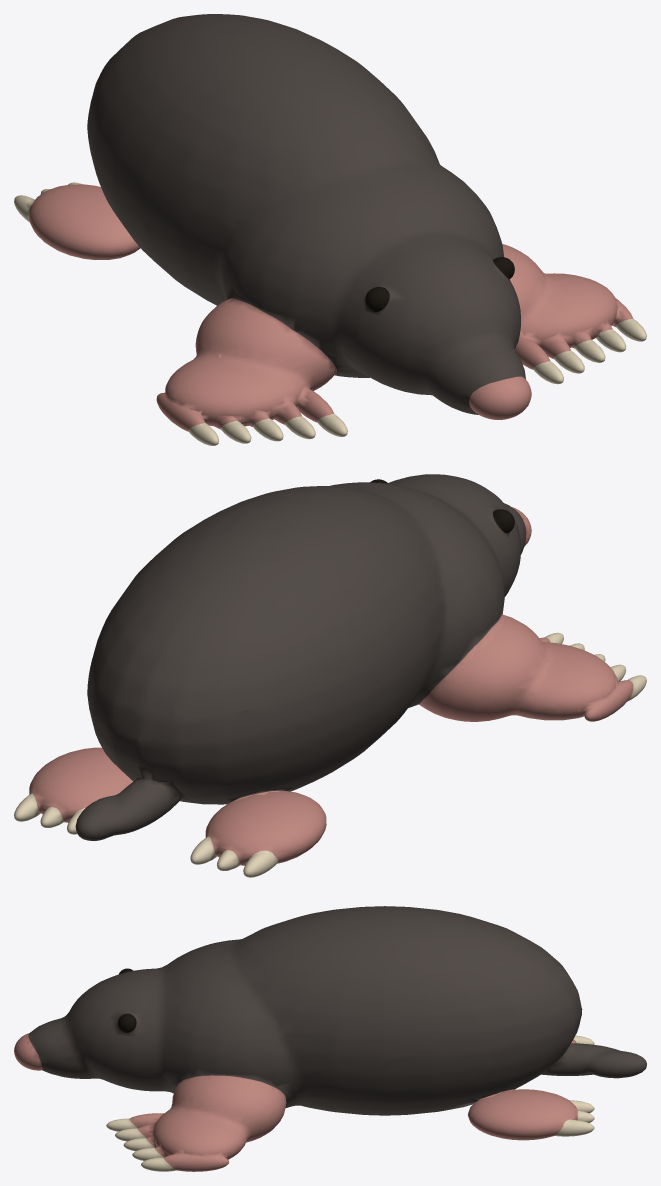
Rendered from NEW_RECOVERY_095_LOD0.fbx.
3 renders of one model, top to bottom at view 1: azimuth 30°, elevation 25°; view 2: azimuth 150°, elevation 25°; view 3: azimuth 270°, elevation 25°, orthographic. The views are drawn at different scales.
Visible parts, largest first — view 1: Mole_complete; view 2: Mole_complete; view 3: Mole_complete.
Boxes of the visible parts, x1,y1,x2,y2 form: Mole_complete: (14,14,646,445); Mole_complete: (14,474,646,877); Mole_complete: (14,906,646,1171).
Bounding box in the file's own units: 203 × 329 × 108.
